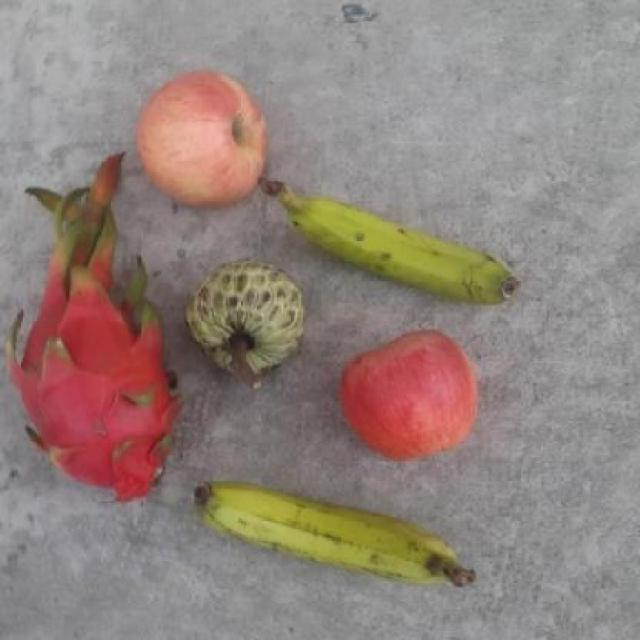apple: (337, 326, 481, 462), (136, 68, 272, 210)
banana: (258, 176, 522, 306), (190, 479, 475, 590)
dragon fruit: (5, 248, 188, 506)
sugar apple: (184, 254, 304, 377)
